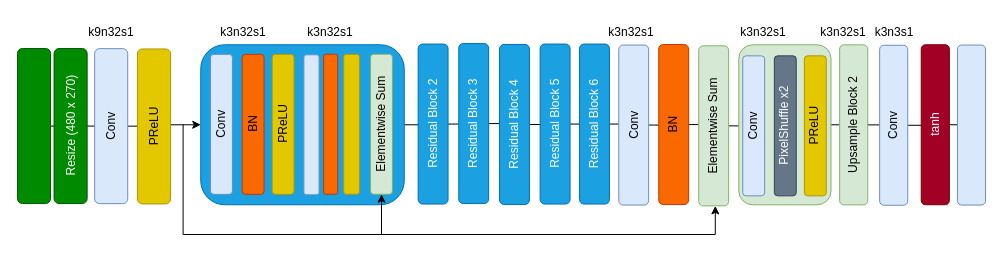
This 1004x260 diagram has some shape labels left out. Each missing label, with the centre of its shape:
"Input" belongs at point 33,126.
"Output (1920 x 1080)" belongs at point 971,124.
